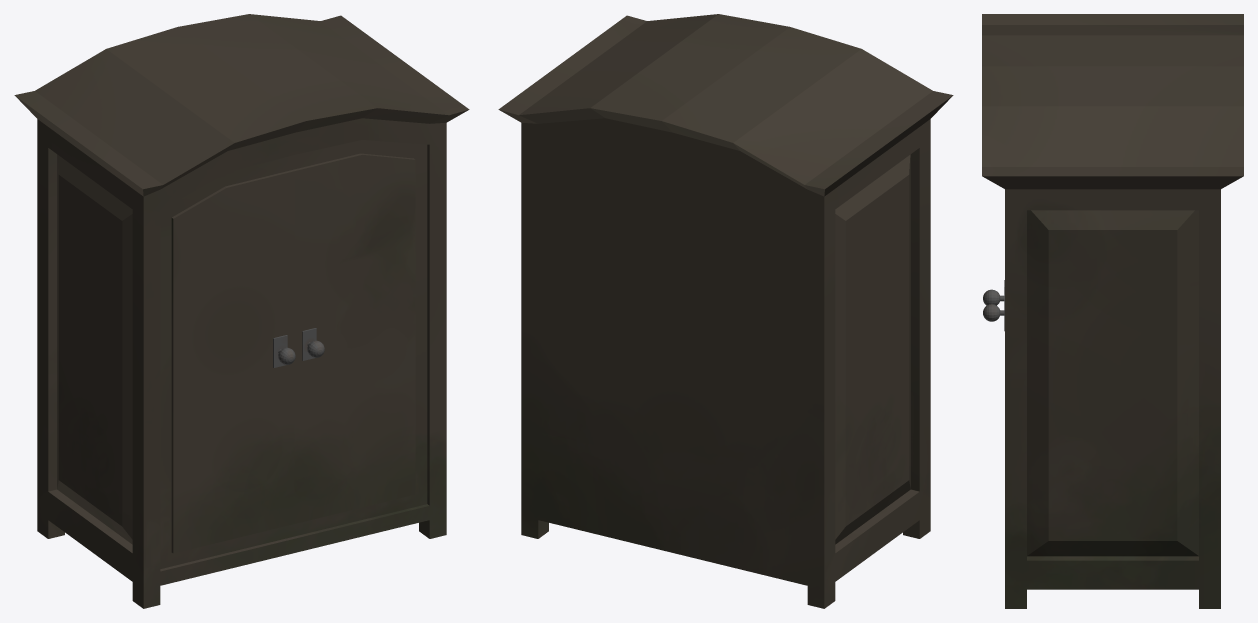
The model's file is kaappi_vaatteita (1).fbx.
3 renders of one model, left to right at view 1: azimuth 30°, elevation 25°; view 2: azimuth 150°, elevation 25°; view 3: azimuth 270°, elevation 25°, orthographic.
Parts seen in each view (by area): view 1: kaappi, kaappi_vasen_ovi, kaappi_oikee_ovi; view 2: kaappi; view 3: kaappi.
Boxes of the visible parts, left/top/right/bottom form: kaappi: left=14, top=14, right=469, bottom=608; kaappi_vasen_ovi: left=171, top=170, right=295, bottom=553; kaappi_oikee_ovi: left=293, top=153, right=415, bottom=523; kaappi: left=498, top=14, right=953, bottom=608; kaappi: left=982, top=14, right=1243, bottom=608.
Bounding box in the file's own units: 259 × 348 × 177.
Materials: 9 (3 with a texture image).
